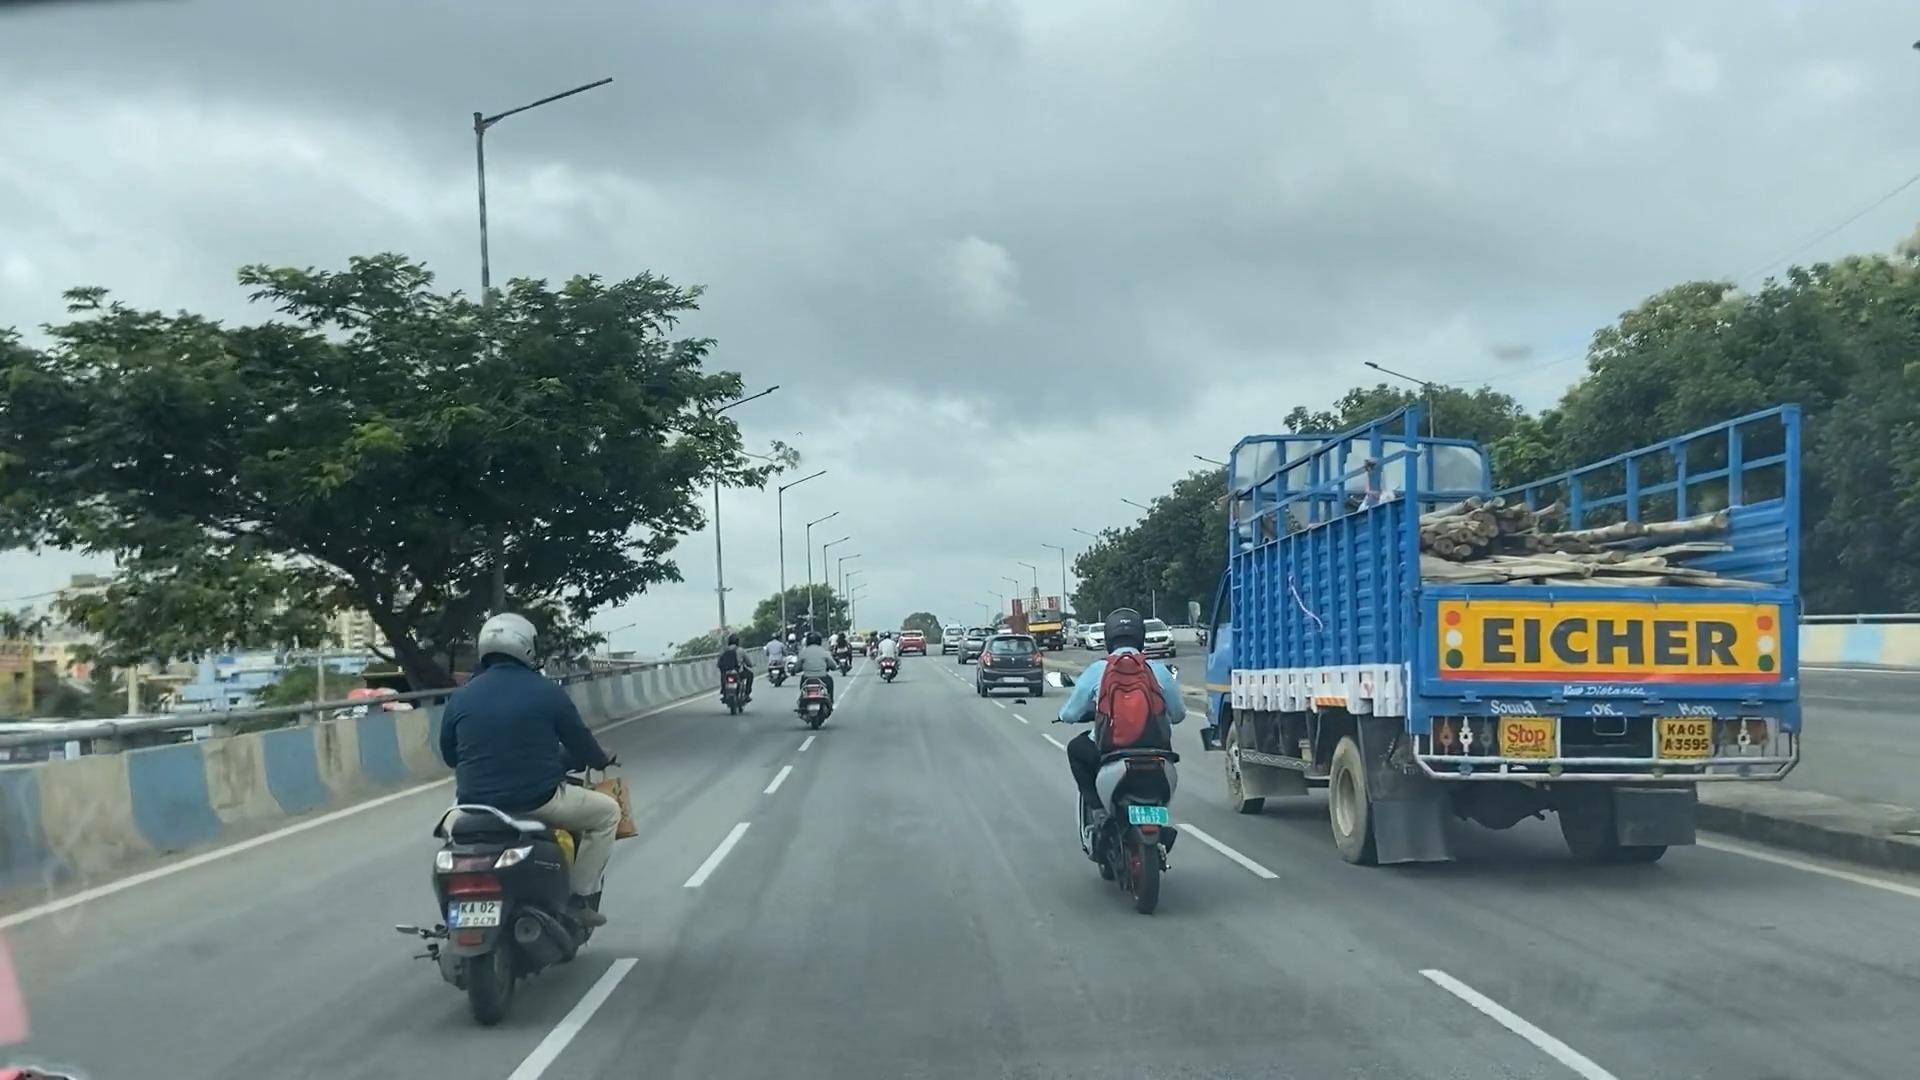HMV: (1303, 447, 1793, 840)
LMV: (430, 657, 601, 992), (1087, 607, 1193, 909), (977, 626, 1052, 700), (800, 640, 848, 731), (716, 633, 764, 717)
